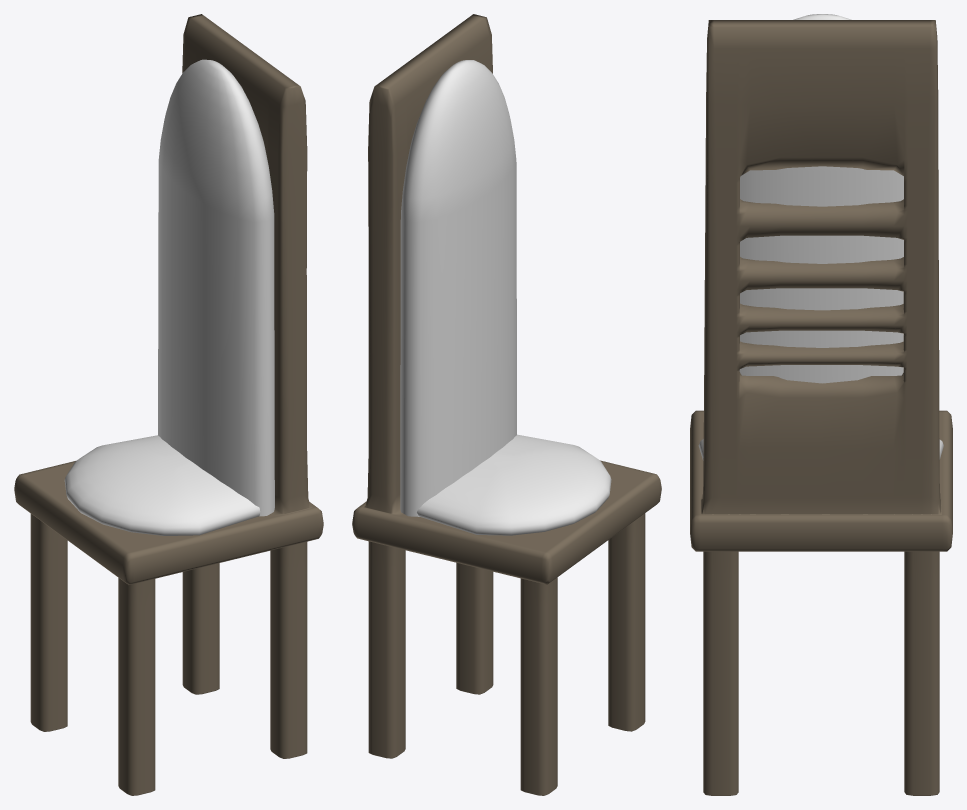
The model's file is chaise_02.fbx.
The picture shows the model from 3 angles, left to right: view 1: azimuth 30°, elevation 25°; view 2: azimuth 150°, elevation 25°; view 3: azimuth 270°, elevation 25°; orthographic projection. The views are drawn at different scales.
Parts seen in each view (by area): view 1: pasted__pCube7; view 2: pasted__pCube7; view 3: pasted__pCube7.
Part boxes in pixels (x1,y1,x2,y2): pasted__pCube7: (14,14,323,795); pasted__pCube7: (352,14,661,795); pasted__pCube7: (690,14,952,795).
Size of the model in its own units: 1.92 by 6.16 by 1.92.
